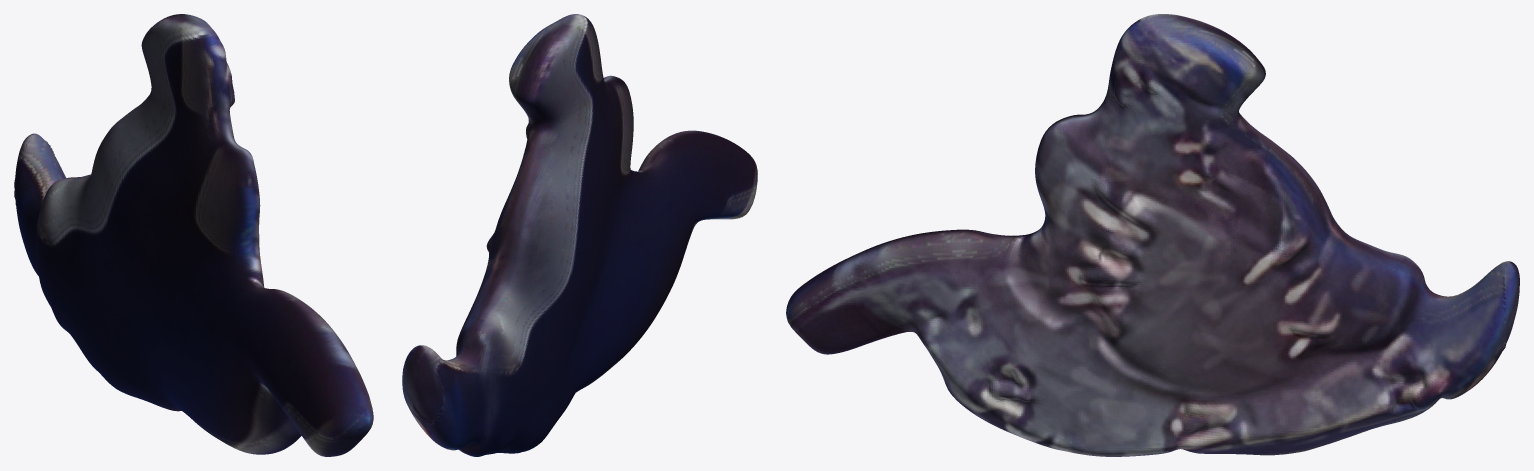
Rendered from dead_god_mantle.glb.
3 renders of one model, left to right at view 1: azimuth 30°, elevation 25°; view 2: azimuth 150°, elevation 25°; view 3: azimuth 270°, elevation 25°, orthographic. The views are drawn at different scales.
Bounding box in the file's own units: 0.2668 × 1.32 × 1.99.
1 material, 1 textured.
